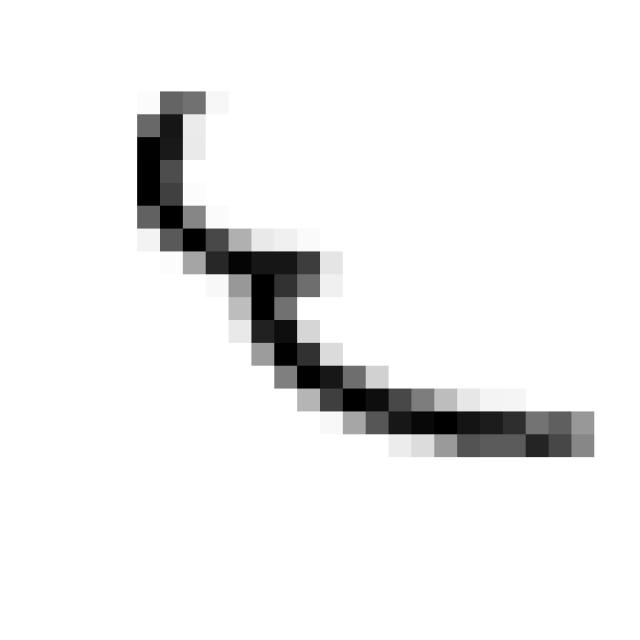4 -four-: (114, 71, 618, 484)
